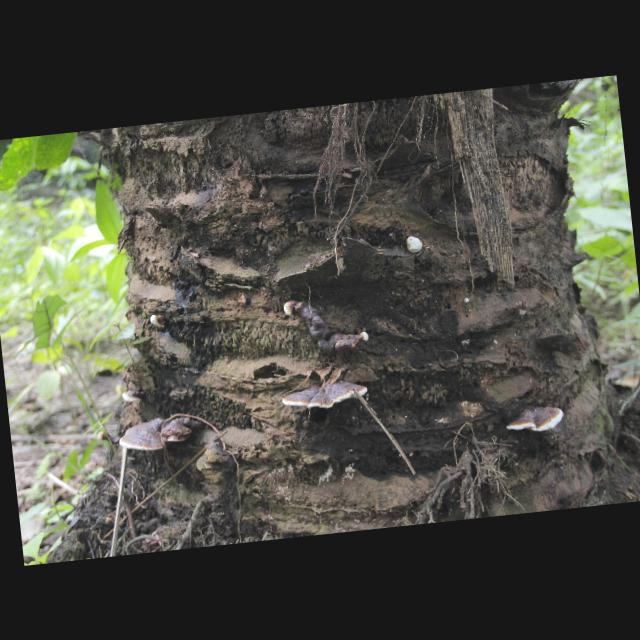ganoderma: (295, 293, 362, 359), (280, 376, 370, 414), (505, 404, 566, 437), (117, 418, 171, 455), (160, 416, 202, 445), (122, 389, 148, 405)
primordium: (405, 235, 425, 255), (150, 315, 169, 331), (283, 301, 297, 318), (96, 431, 110, 445), (360, 332, 370, 344), (465, 299, 471, 305)
